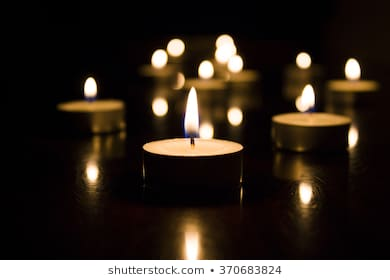Fire: (179, 217, 201, 259), (185, 87, 202, 139), (344, 55, 363, 81), (166, 37, 187, 57), (149, 47, 168, 69), (302, 84, 317, 111), (82, 75, 98, 100), (225, 55, 246, 74), (299, 181, 314, 206), (227, 104, 243, 127), (197, 60, 214, 81), (84, 160, 99, 183), (214, 48, 235, 64), (153, 97, 168, 117), (296, 51, 312, 69), (347, 124, 358, 150), (171, 71, 185, 91), (216, 34, 235, 46), (295, 97, 307, 112)
